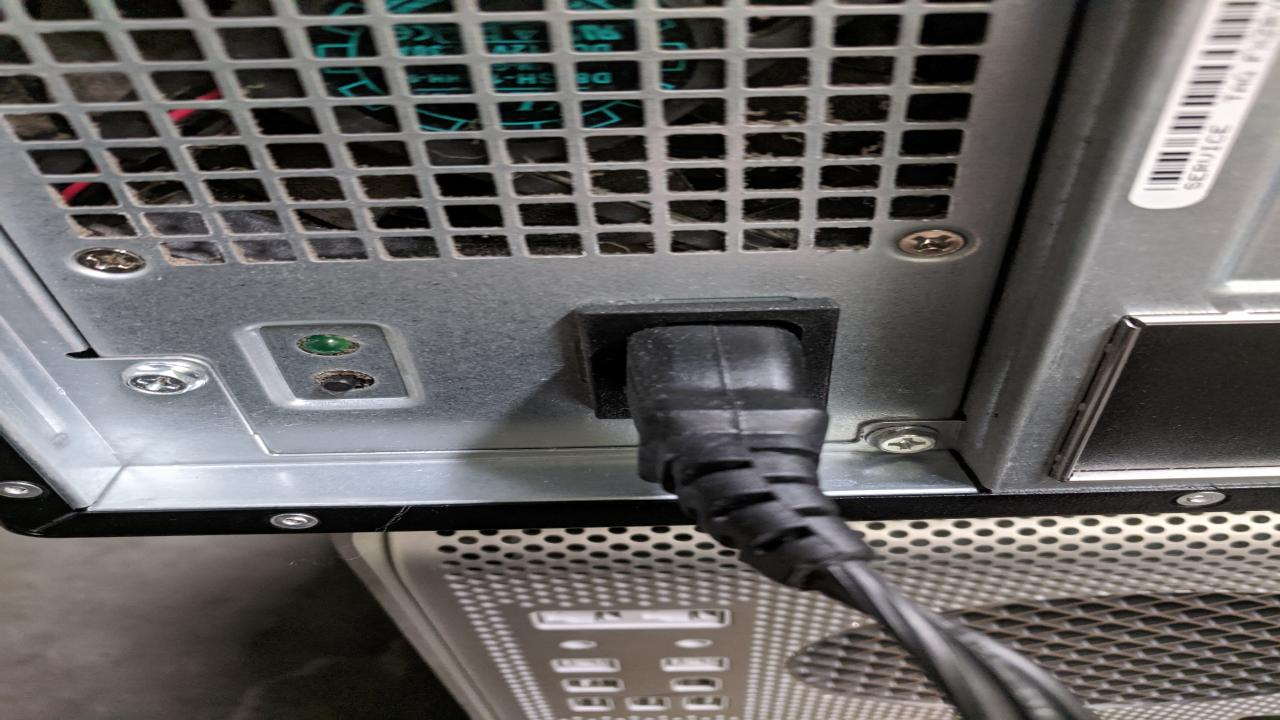CRS: (115, 363, 205, 396), (894, 226, 966, 260), (68, 246, 148, 276), (874, 428, 942, 459)
